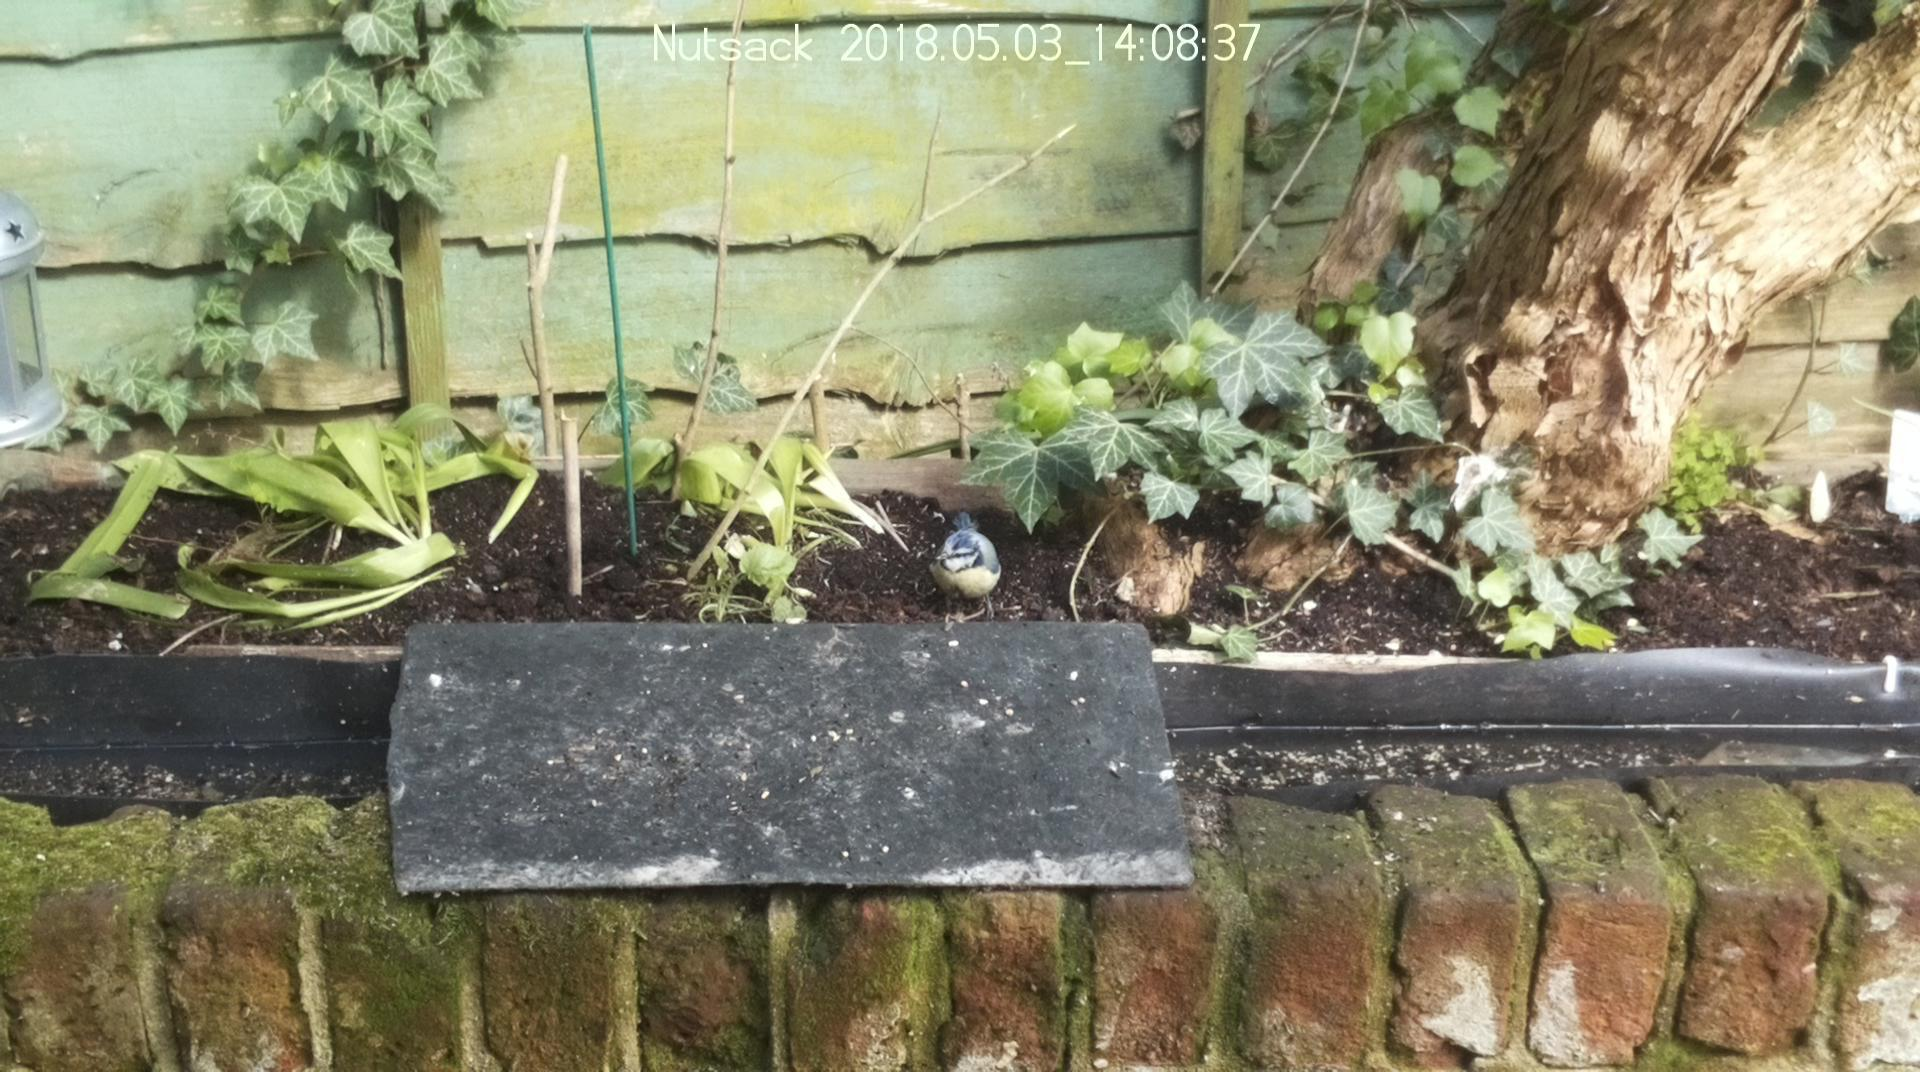blue tit: (928, 512, 1001, 622)
